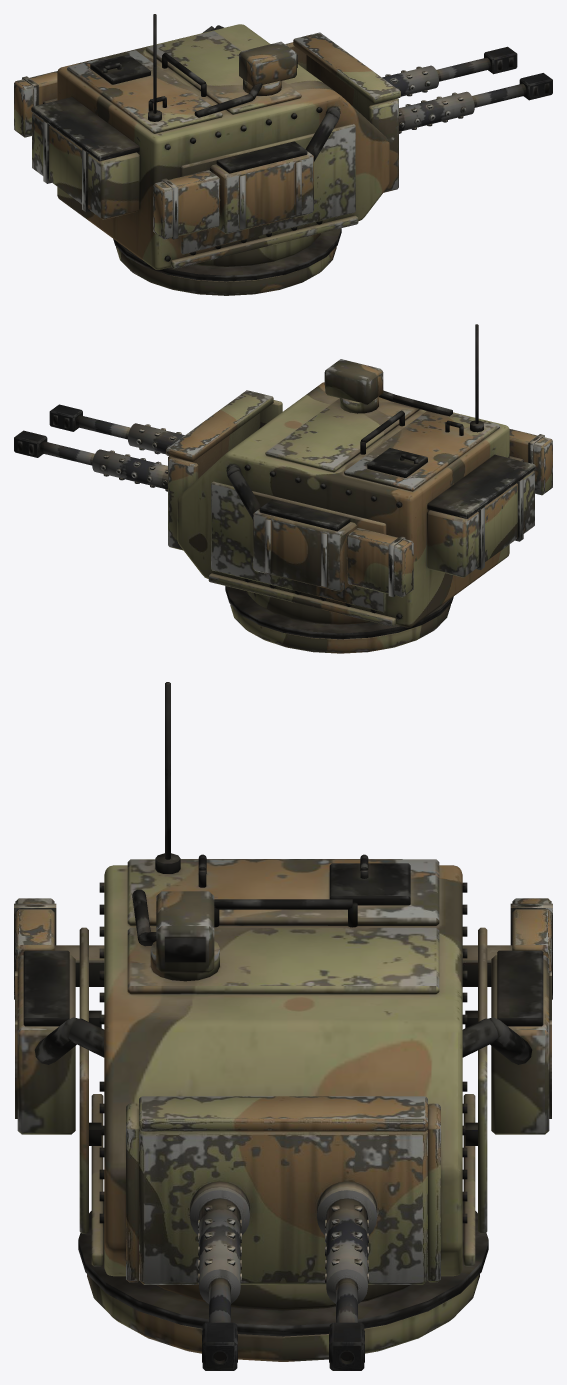
The model's file is turret_grach_t3_steppe.glb.
3 views of the same model, one above another, from view 1: azimuth 30°, elevation 25°; view 2: azimuth 150°, elevation 25°; view 3: azimuth 270°, elevation 25° (orthographic). The views are drawn at different scales.
Visible parts, largest first — view 1: turret_light_t3, guns, pods; view 2: turret_light_t3, guns, pods; view 3: turret_light_t3, guns, pods.
Part boxes in pixels (x1,y1,x2,y2): turret_light_t3: (31,14,389,295); guns: (285,32,552,192); pods: (14,71,220,239); turret_light_t3: (177,324,535,653); guns: (14,390,282,550); pods: (346,428,552,597); turret_light_t3: (15,682,551,1361); guns: (126,1096,440,1370); pods: (14,898,552,999).
Size of the model in its own units: 1.86 by 1.09 by 1.05.
3 materials, 3 textured.
